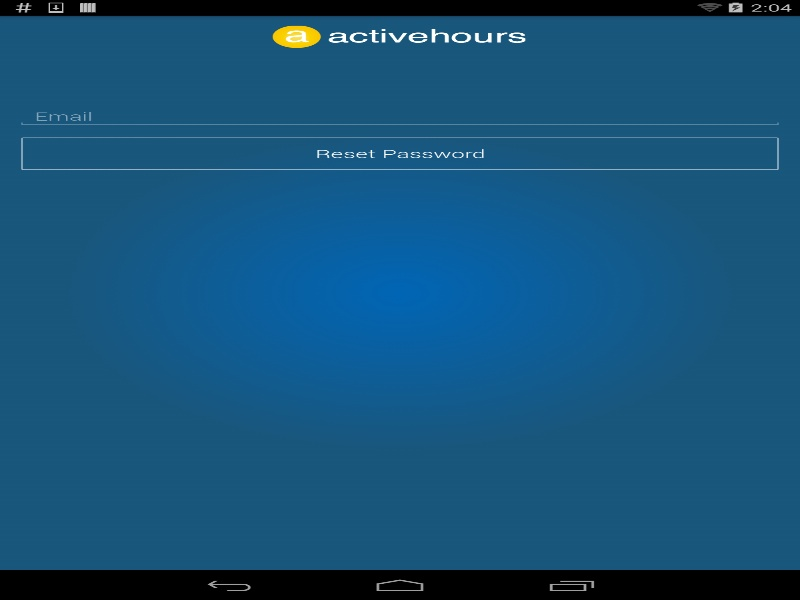Button: (21, 137, 778, 170), (682, 130, 746, 160)
Input: (85, 130, 746, 160), (85, 85, 746, 113), (21, 108, 778, 125)
